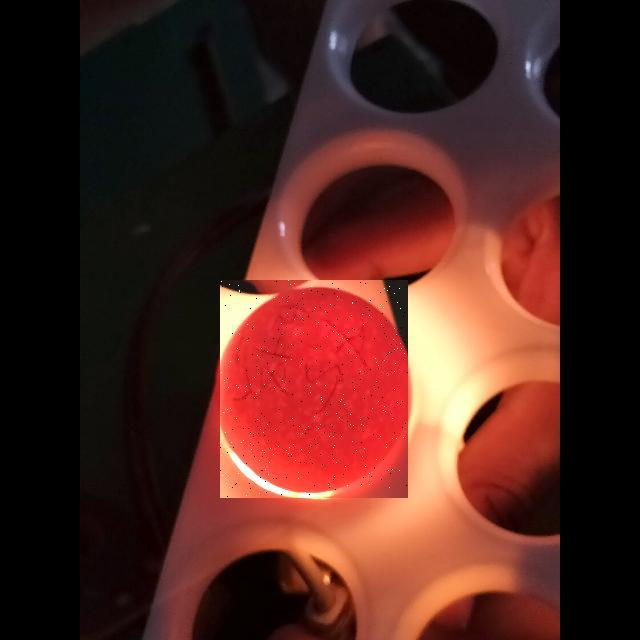Infertile: (220, 280, 408, 498)
